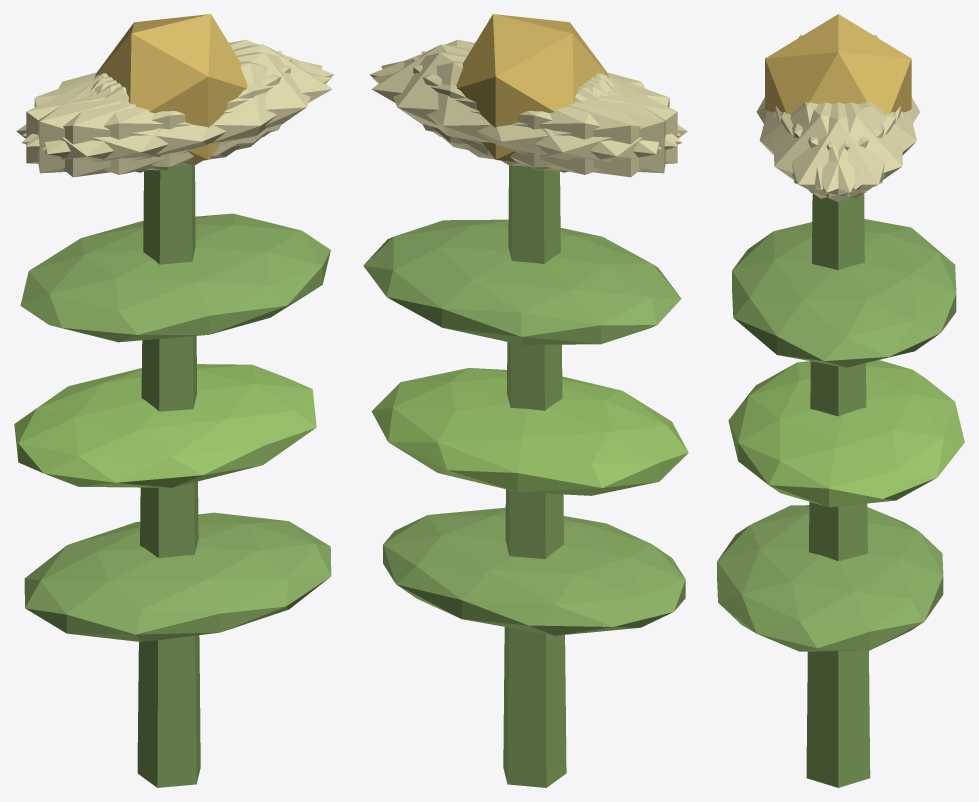
The model's file is pilea-nummulariifolia.glb.
3 renders of one model, left to right at view 1: azimuth 30°, elevation 25°; view 2: azimuth 150°, elevation 25°; view 3: azimuth 270°, elevation 25°, orthographic.
Parts seen in each view (by area): view 1: leaf0, leaf2, leaf1, stem, center, petal1, petal6, petal2, petal5, petal7, petal0, petal4 (+2 smaller); view 2: leaf1, leaf2, leaf0, stem, center, petal8, petal3, petal7, petal4, petal2, petal0, petal5 (+2 smaller); view 3: leaf2, leaf1, leaf0, stem, center, petal0, petal5, petal4, petal8, petal1.
Part boxes in pixels (x1,y1,x2,y2): leaf0: (24,512,331,642); leaf2: (20,213,330,342); leaf1: (14,364,316,487); stem: (137,165,200,787); center: (94,14,247,162); petal1: (21,61,331,174); petal6: (16,75,240,177); petal2: (38,51,282,173); petal5: (42,52,322,167); petal7: (26,57,291,170); petal0: (94,44,332,156); petal4: (23,39,334,146); leaf1: (371,368,688,495); leaf2: (363,219,681,344); leaf0: (383,507,685,635); stem: (503,165,566,787); center: (456,14,609,162); petal8: (372,61,682,174); petal3: (463,75,687,177); petal7: (421,51,665,173); petal4: (381,52,661,167); petal2: (412,57,677,170); petal0: (372,44,609,156); petal5: (369,39,681,146); leaf2: (732,219,956,367); leaf1: (728,360,964,507); leaf0: (717,505,943,651); stem: (806,193,870,787); center: (765,14,911,114); petal0: (775,102,901,202); petal5: (773,102,895,198); petal4: (781,102,902,198); petal8: (792,102,916,189); petal1: (759,102,884,189).
Size of the model in its own units: 0.1452 by 0.3414 by 0.1035.
